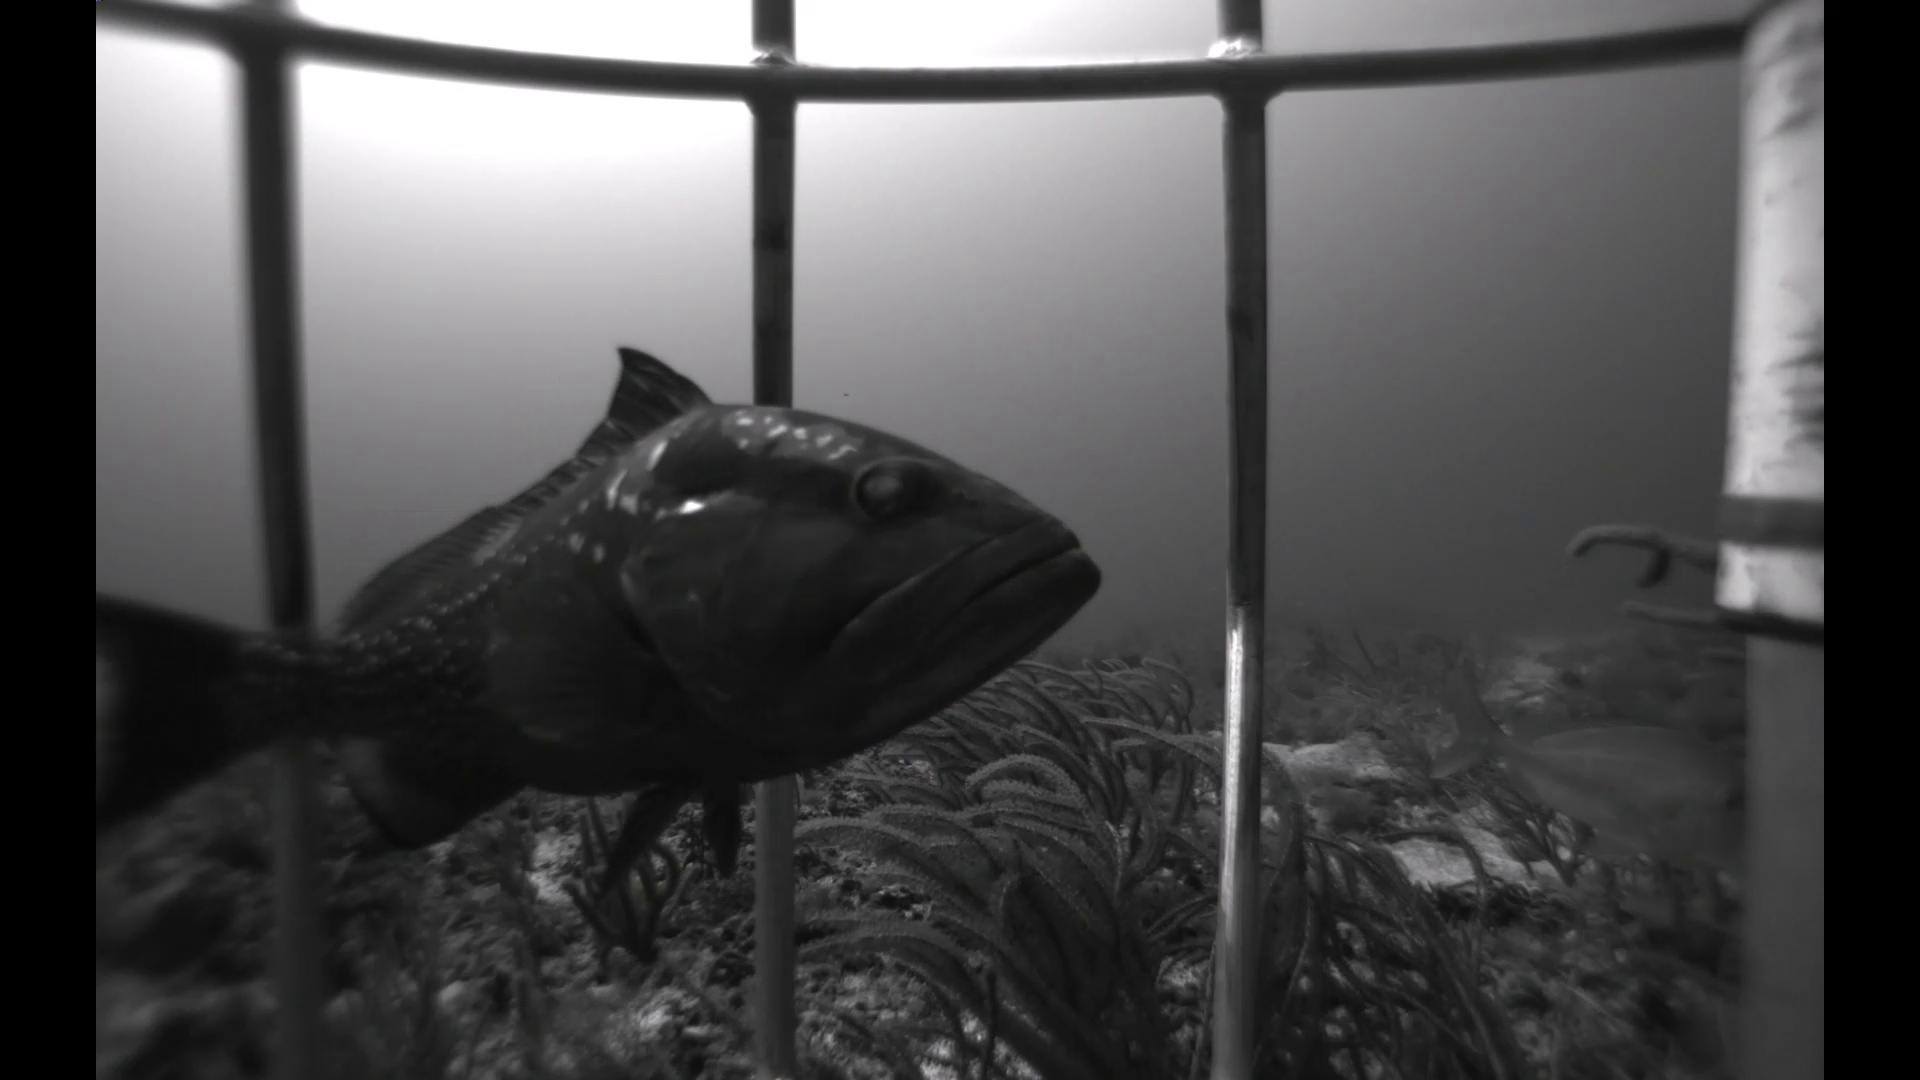CALAMUSNODOSUS-170210608: (1416, 663, 1755, 885)
EPINEPHELUSMORIO-170021211: (99, 339, 1101, 927), (307, 728, 351, 790)
